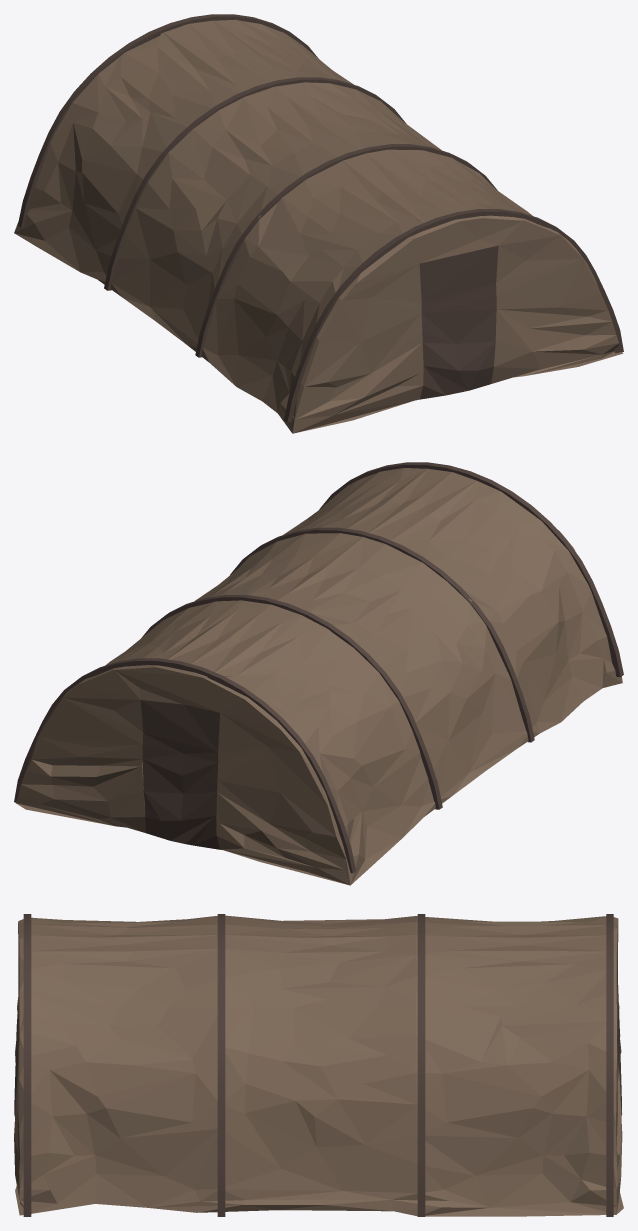
The model's file is model_military_tent_desert.fbx.
The picture shows the model from 3 angles, top to bottom: view 1: azimuth 30°, elevation 25°; view 2: azimuth 150°, elevation 25°; view 3: azimuth 270°, elevation 25°; orthographic projection. The views are drawn at different scales.
Visible parts, largest first — view 1: model_military_tent_desert; view 2: model_military_tent_desert; view 3: model_military_tent_desert.
Part boxes in pixels (x1,y1,x2,y2): model_military_tent_desert: (14, 14, 623, 433); model_military_tent_desert: (14, 462, 623, 885); model_military_tent_desert: (14, 914, 623, 1216).
Size of the model in its own units: 749 by 377 by 1071.
1 material, 1 textured.
